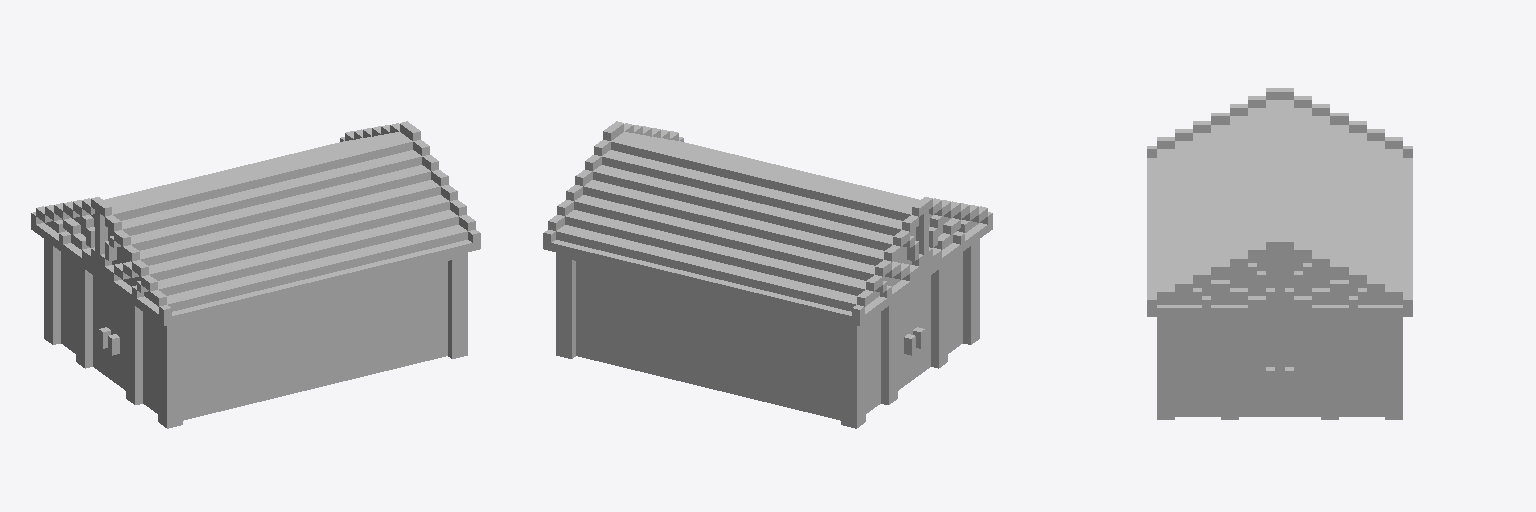
The model's file is Stall.obj.
The picture shows the model from 3 angles: view 1: azimuth 30°, elevation 25°; view 2: azimuth 150°, elevation 25°; view 3: azimuth 270°, elevation 25°; orthographic projection.
Parts seen in each view (by area): view 1: Stall; view 2: Stall; view 3: Stall.
Part boxes in pixels (bbox=[...]): Stall: bbox=[31, 121, 480, 428]; Stall: bbox=[543, 121, 992, 428]; Stall: bbox=[1147, 88, 1412, 419].
Size of the model in its own units: 40 by 22 by 29.